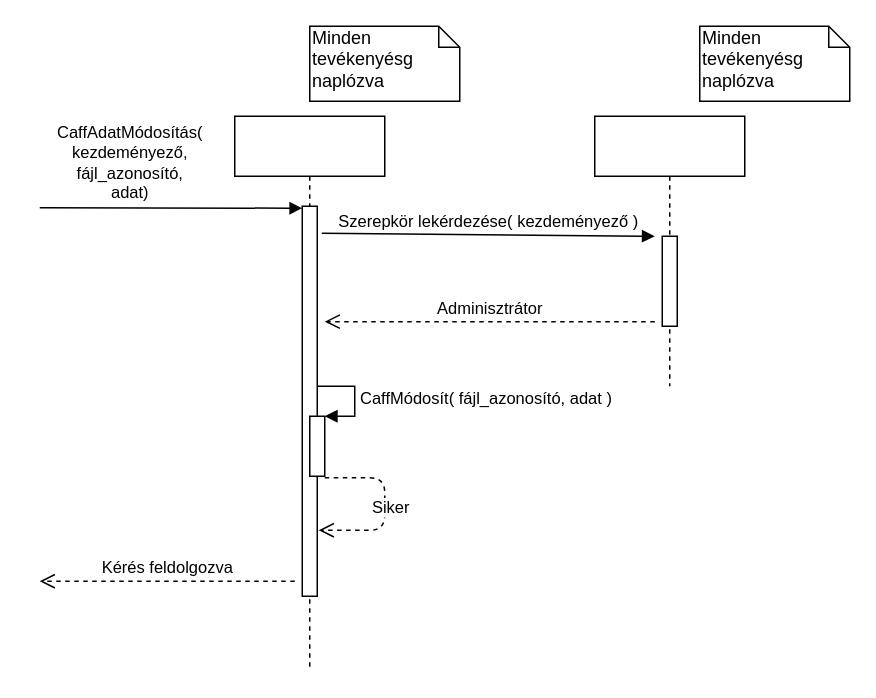
Image size: 876x698. Some labels were removed from this diagram. The box of each missing label's shape, as (x1, y1, x2, y2) in pixels:
c: CAFF Fájl Kezelő: (233, 115, 385, 671)
f: Felhasználói Adatkezelő: (593, 115, 745, 386)
